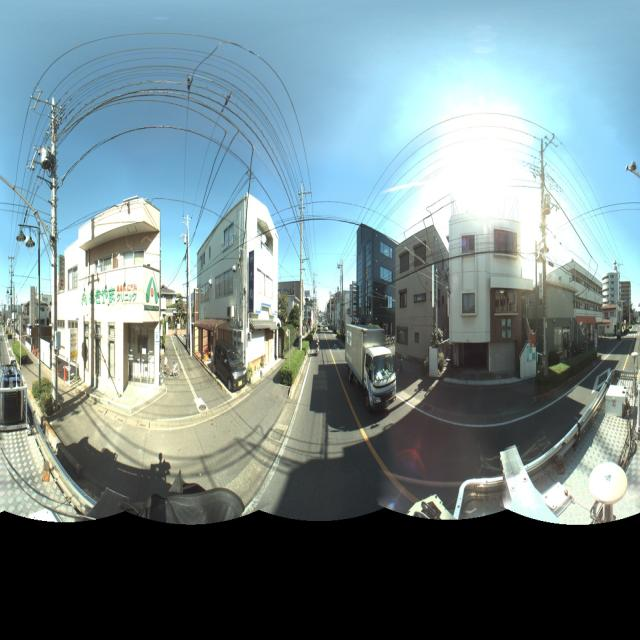b_1: (52, 200, 162, 394), (196, 190, 278, 374), (446, 200, 524, 380), (395, 231, 441, 373), (556, 254, 602, 340), (359, 220, 395, 325), (535, 275, 575, 358), (269, 276, 306, 336)
